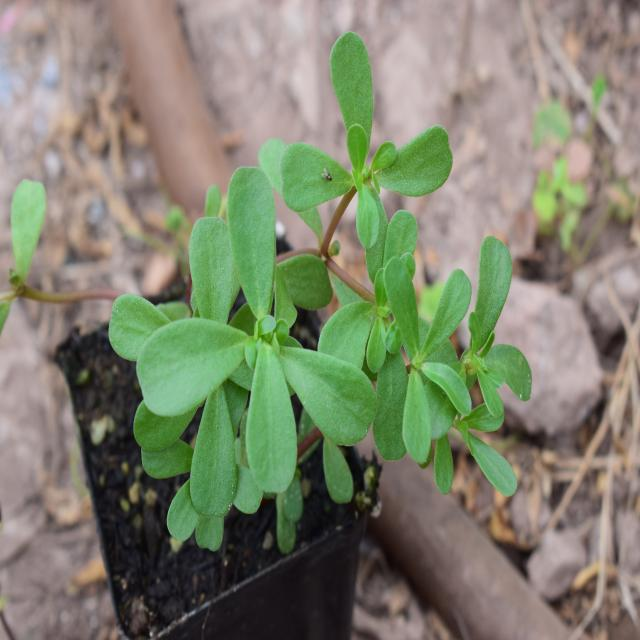purslane: (120, 61, 518, 522)
